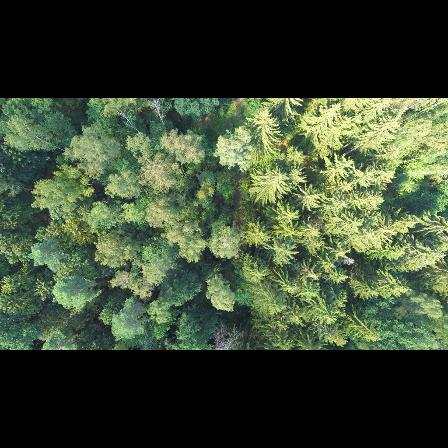Dead: (211, 320, 245, 350), (118, 109, 142, 136), (152, 98, 167, 127), (341, 255, 357, 266)
